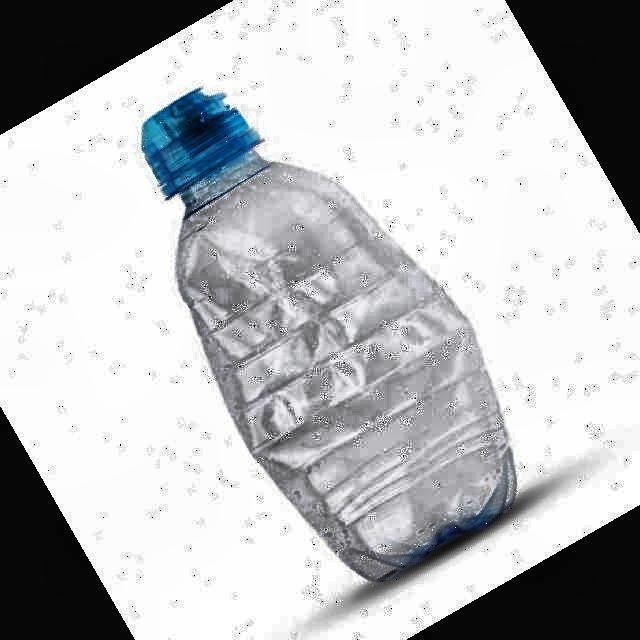plastic: (141, 89, 515, 579)
